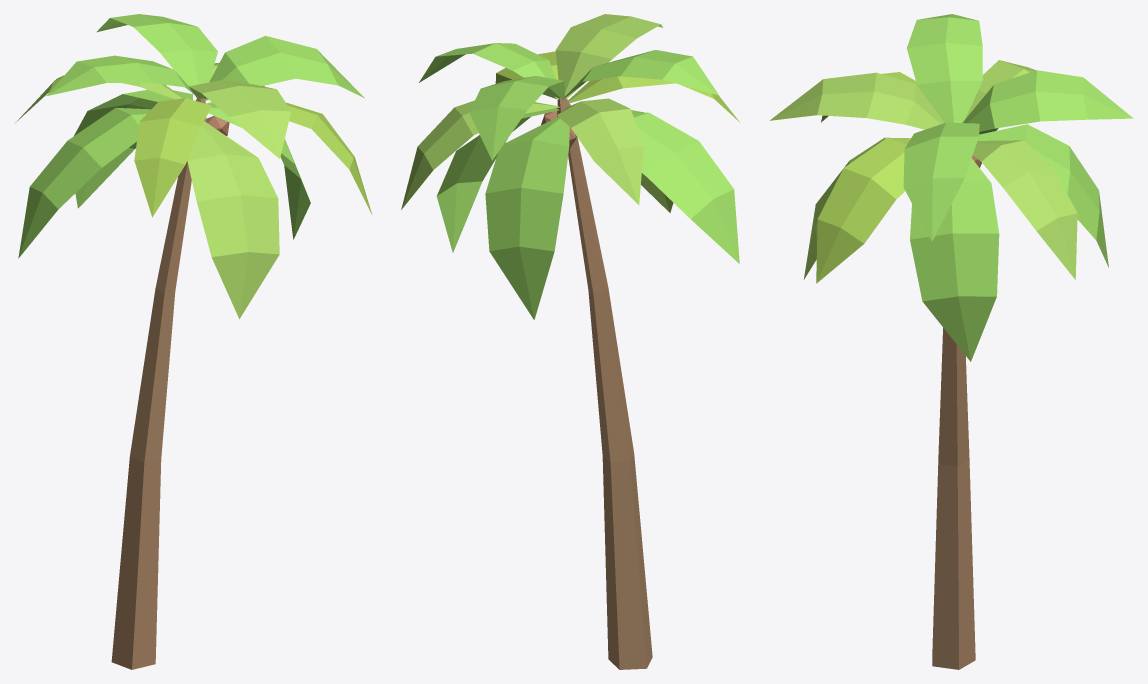
Rendered from Palm_Tree_Coconut_OneSided_l_02_LOD.fbx.
The picture shows the model from 3 angles, left to right: view 1: azimuth 30°, elevation 25°; view 2: azimuth 150°, elevation 25°; view 3: azimuth 270°, elevation 25°; orthographic projection. The views are drawn at different scales.
Visible parts, largest first — view 1: Palm_Tree_Coconut_OneSided_l_02_LOD0; view 2: Palm_Tree_Coconut_OneSided_l_02_LOD0; view 3: Palm_Tree_Coconut_OneSided_l_02_LOD0.
Part boxes in pixels (x1,y1,x2,y2): Palm_Tree_Coconut_OneSided_l_02_LOD0: (15, 14, 372, 669); Palm_Tree_Coconut_OneSided_l_02_LOD0: (401, 14, 739, 669); Palm_Tree_Coconut_OneSided_l_02_LOD0: (769, 14, 1133, 669).
Size of what is drawn, in the model's own units: 499 by 864 by 459.
